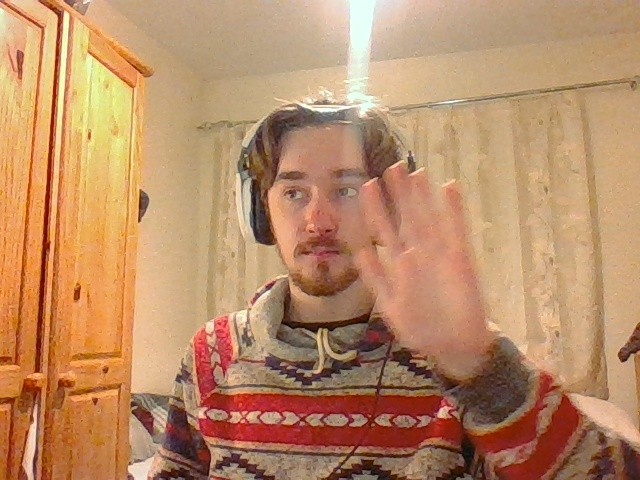hello: (342, 162, 492, 353)
